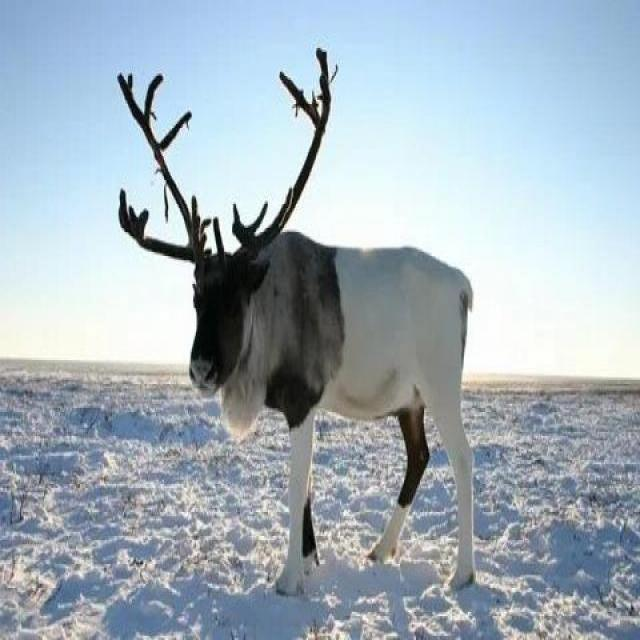deer: (107, 79, 548, 609)
